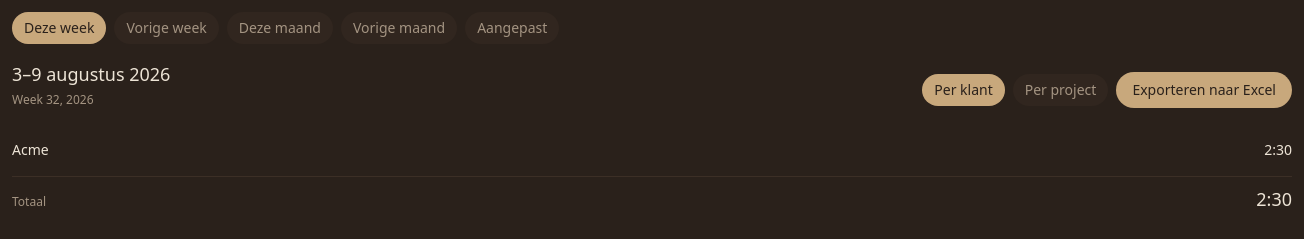
Test: reading a period back › groups by project on request, naming each project's client
Check: the list item is shown, box [12,140,1292,159]
Click the button "Per project".
click(1061, 90)  # box [1013,74,1108,106]
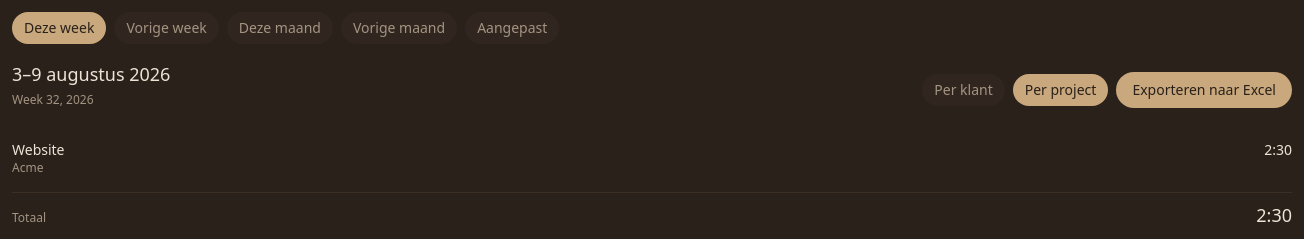
Check: the list item shows "Acme", box [12,159,43,176]
Check: the list item shows "Website", box [12,140,64,159]
